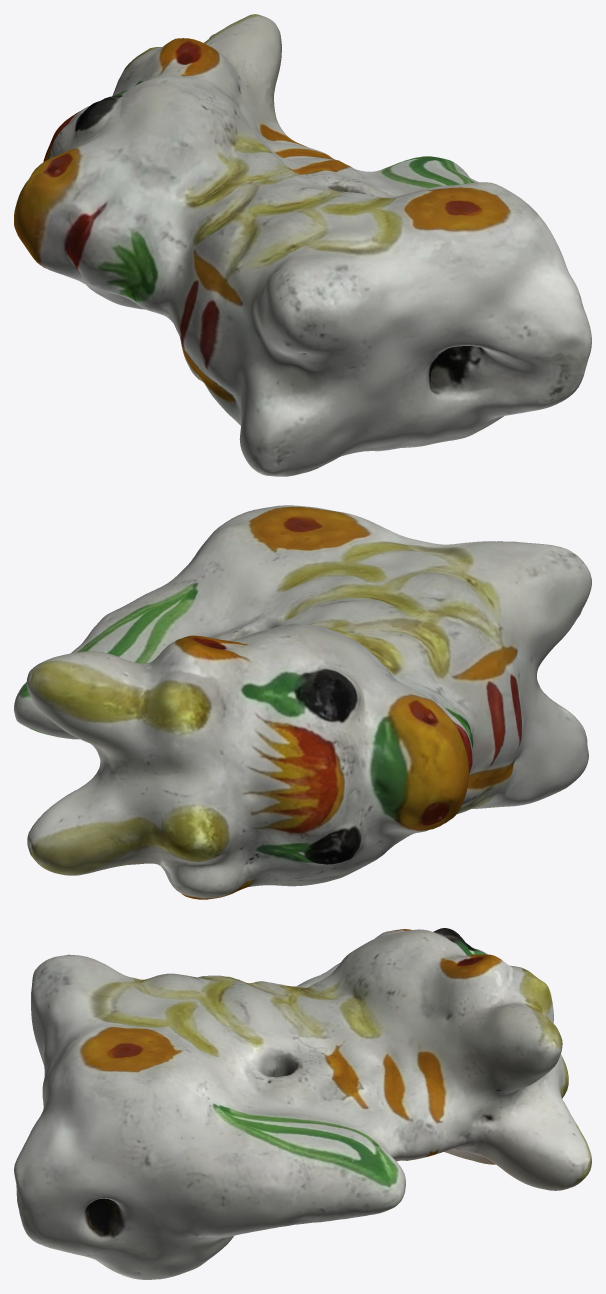
3 renders of one model, top to bottom at view 1: azimuth 30°, elevation 25°; view 2: azimuth 150°, elevation 25°; view 3: azimuth 270°, elevation 25°, orthographic. The views are drawn at different scales.
Bounding box in the file's own units: 0.3031 × 0.1908 × 0.372.
Materials: 1 (1 with a texture image).
